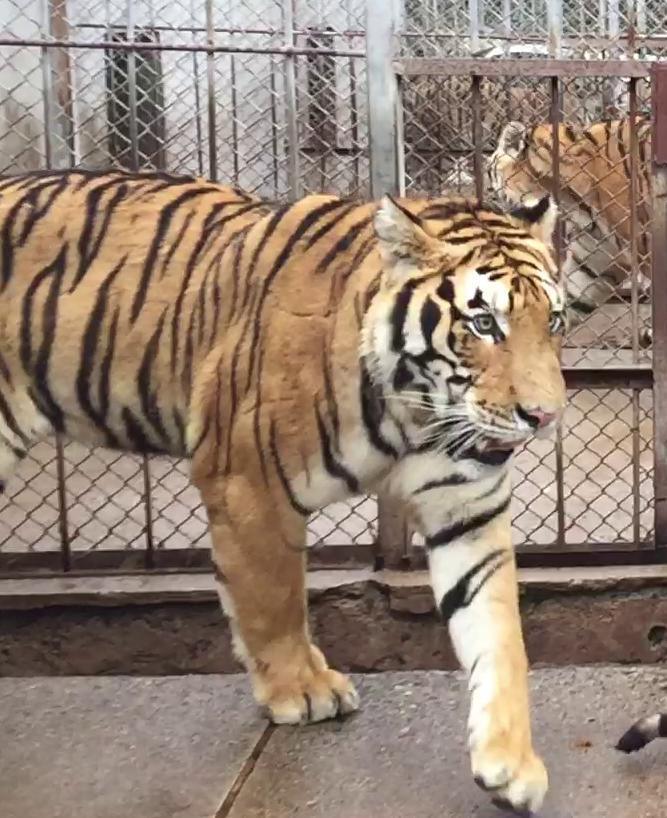tiger: (0, 170, 565, 813)
